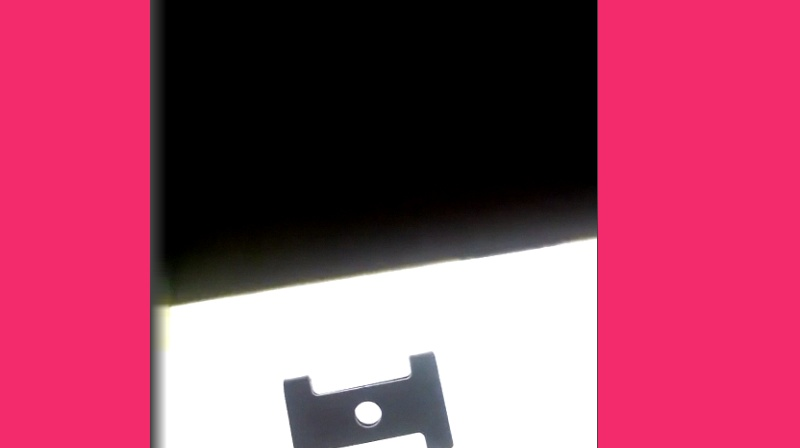O002: (278, 350, 456, 447)
